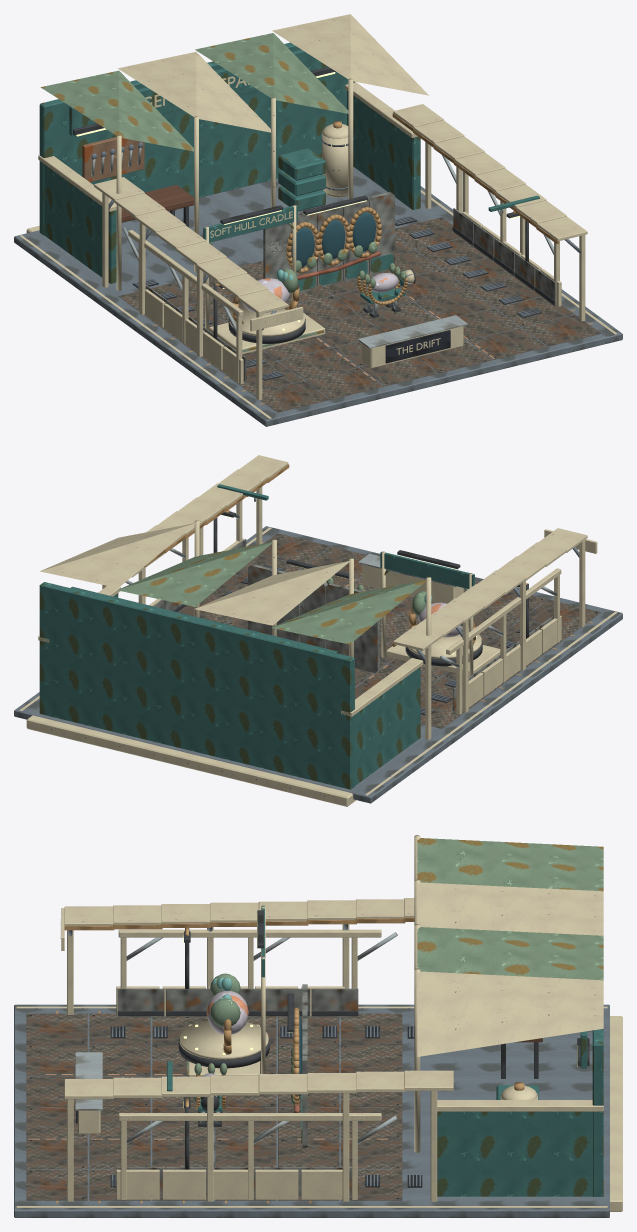
Rendered from jovexa-garage.glb.
3 views of the same model, one above another, from view 1: azimuth 30°, elevation 25°; view 2: azimuth 150°, elevation 25°; view 3: azimuth 270°, elevation 25° (orthographic). The views are drawn at different scales.
Visible parts, largest first — view 1: jovexa-garage, Gentle Repairs drive; view 2: jovexa-garage; view 3: jovexa-garage.
Part boxes in pixels (left/top/right/bottom): jovexa-garage: left=14, top=14, right=622, bottom=426; Gentle Repairs drive: left=357, top=263, right=407, bottom=305; jovexa-garage: left=14, top=455, right=622, bottom=806; jovexa-garage: left=14, top=835, right=622, bottom=1217.
Size of the model in its own units: 16.9 by 7.43 by 21.09.
Materials: 21 (17 with a texture image).
